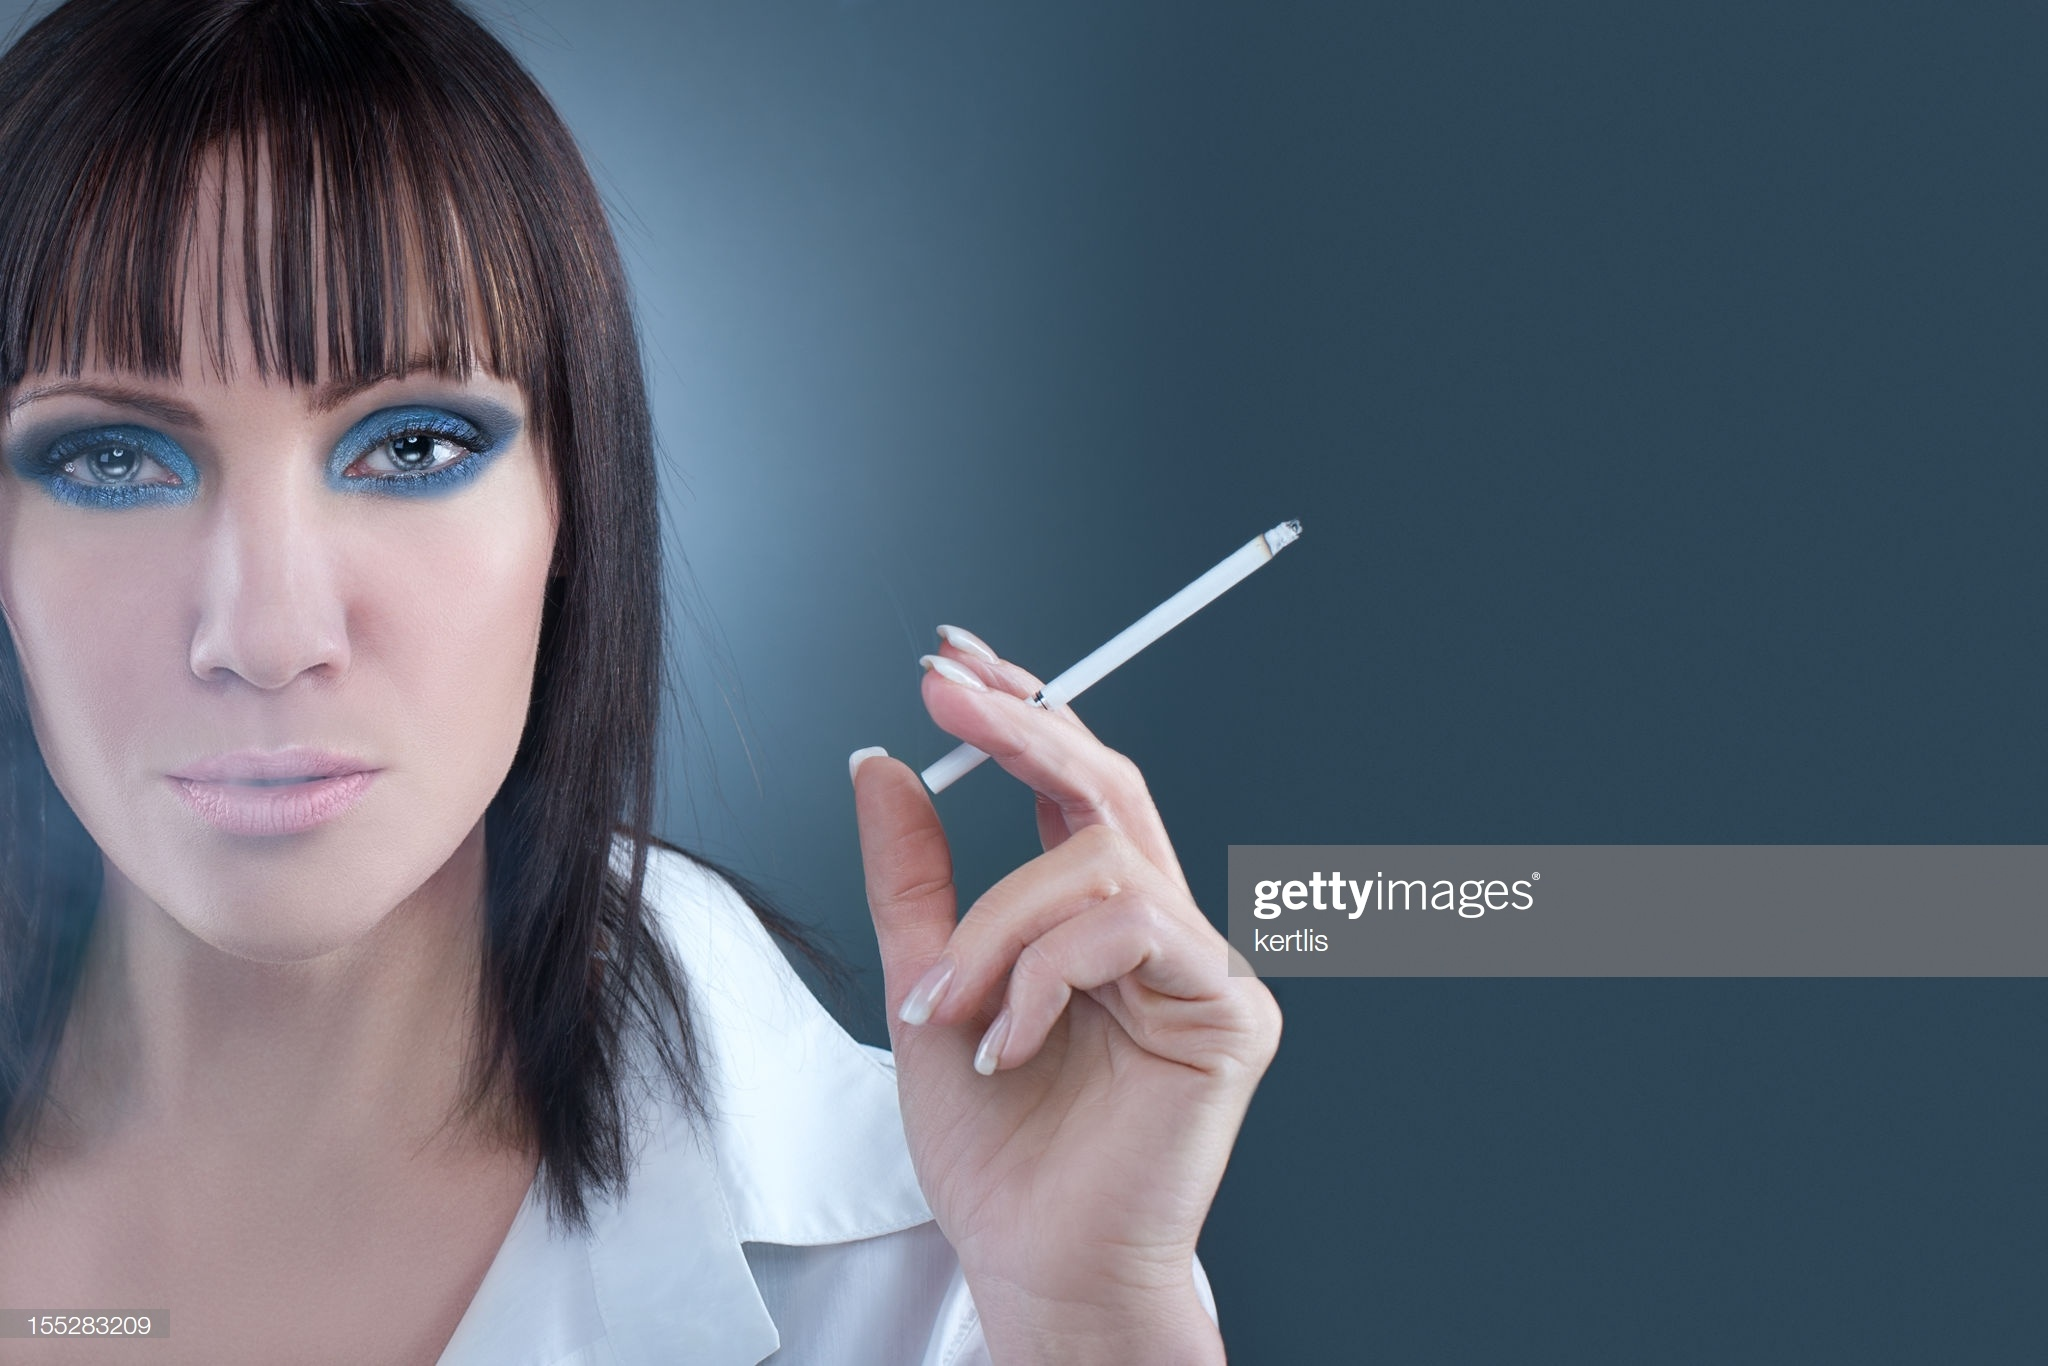sigaretta: (920, 518, 1310, 778)
